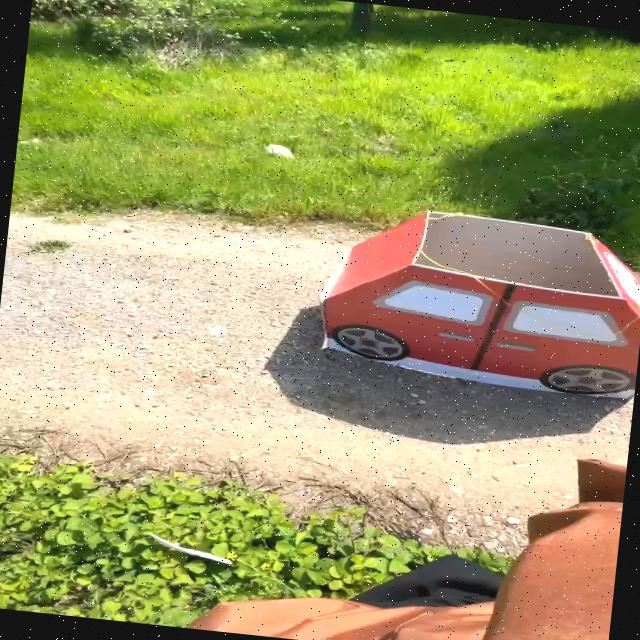red_car: (280, 178, 640, 428)
